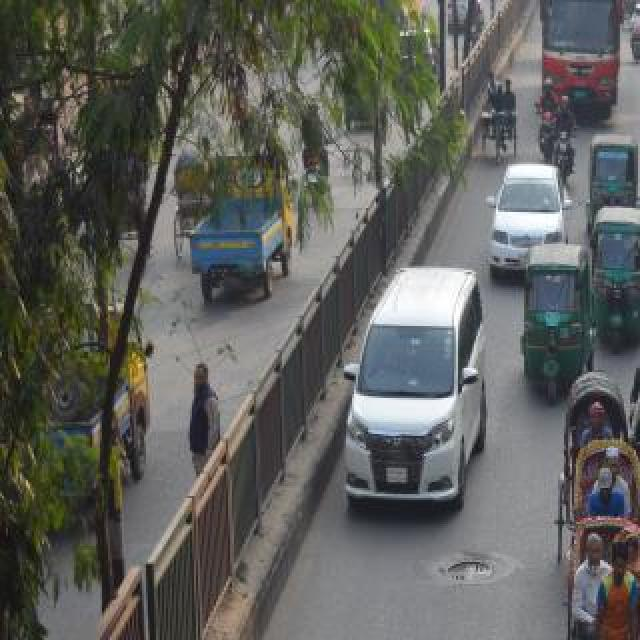bus: (535, 0, 629, 90)
car: (492, 166, 570, 244)
motorbike: (294, 100, 332, 232), (527, 69, 555, 161), (553, 99, 585, 175), (628, 6, 640, 84)
van: (336, 282, 478, 538), (11, 307, 163, 499), (186, 171, 298, 309)
